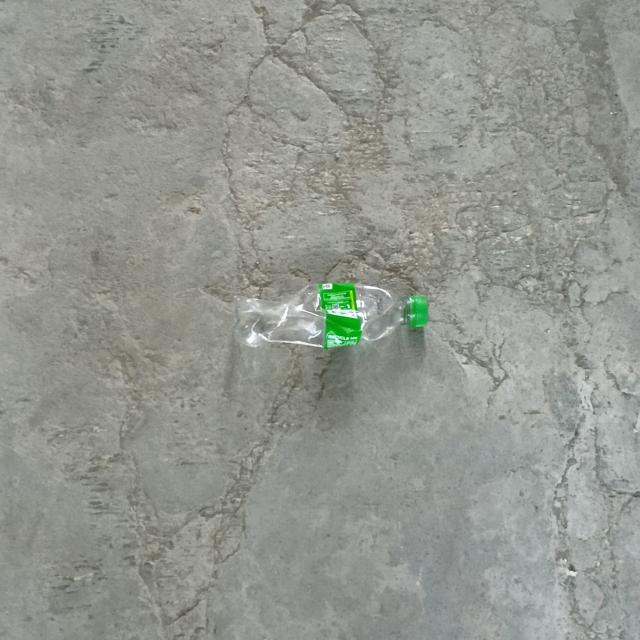Bottle: (236, 283, 428, 349)
